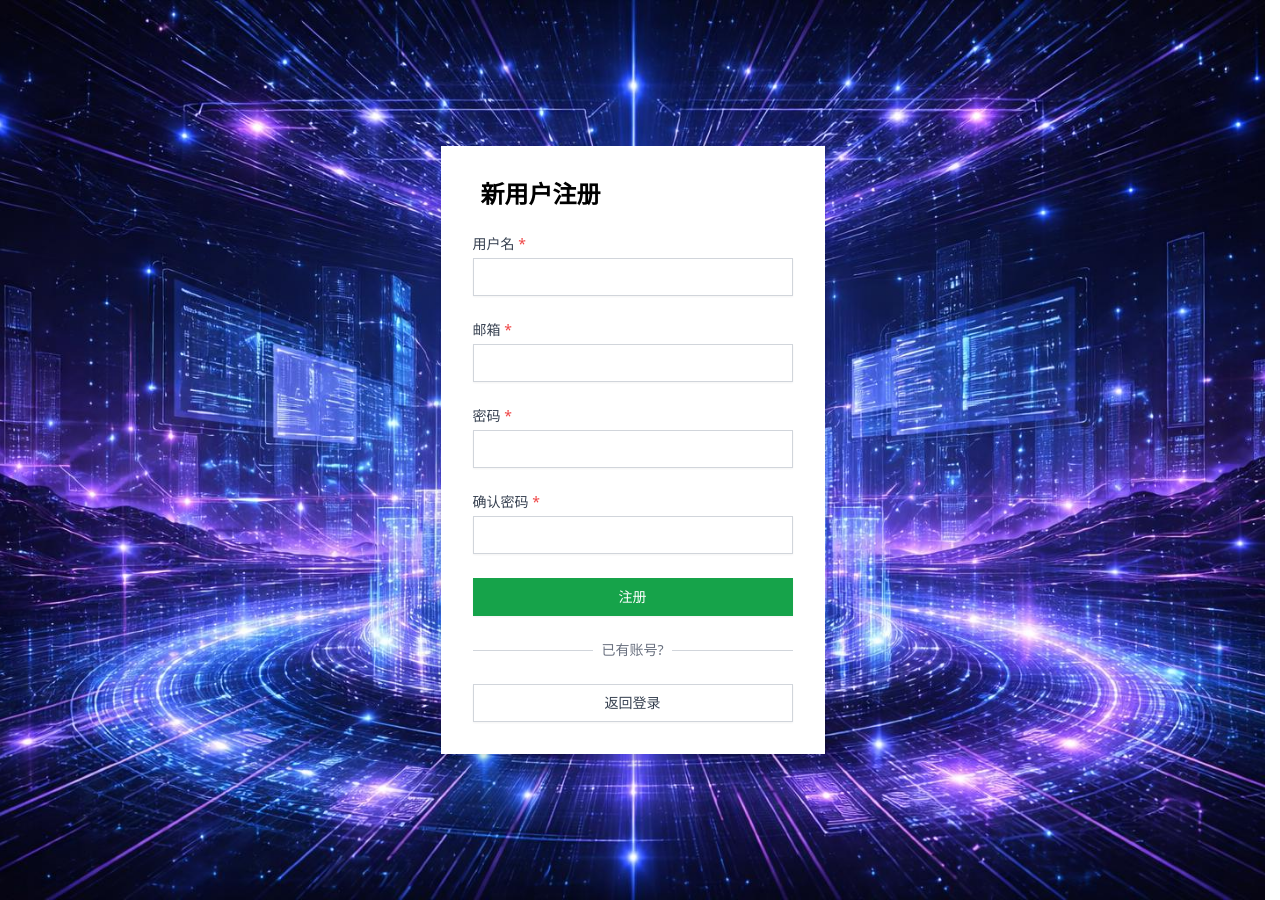
Scenario: Register (branch coverage) › clears field errors on input change
Submit the form "注册", box [472, 234, 792, 616]
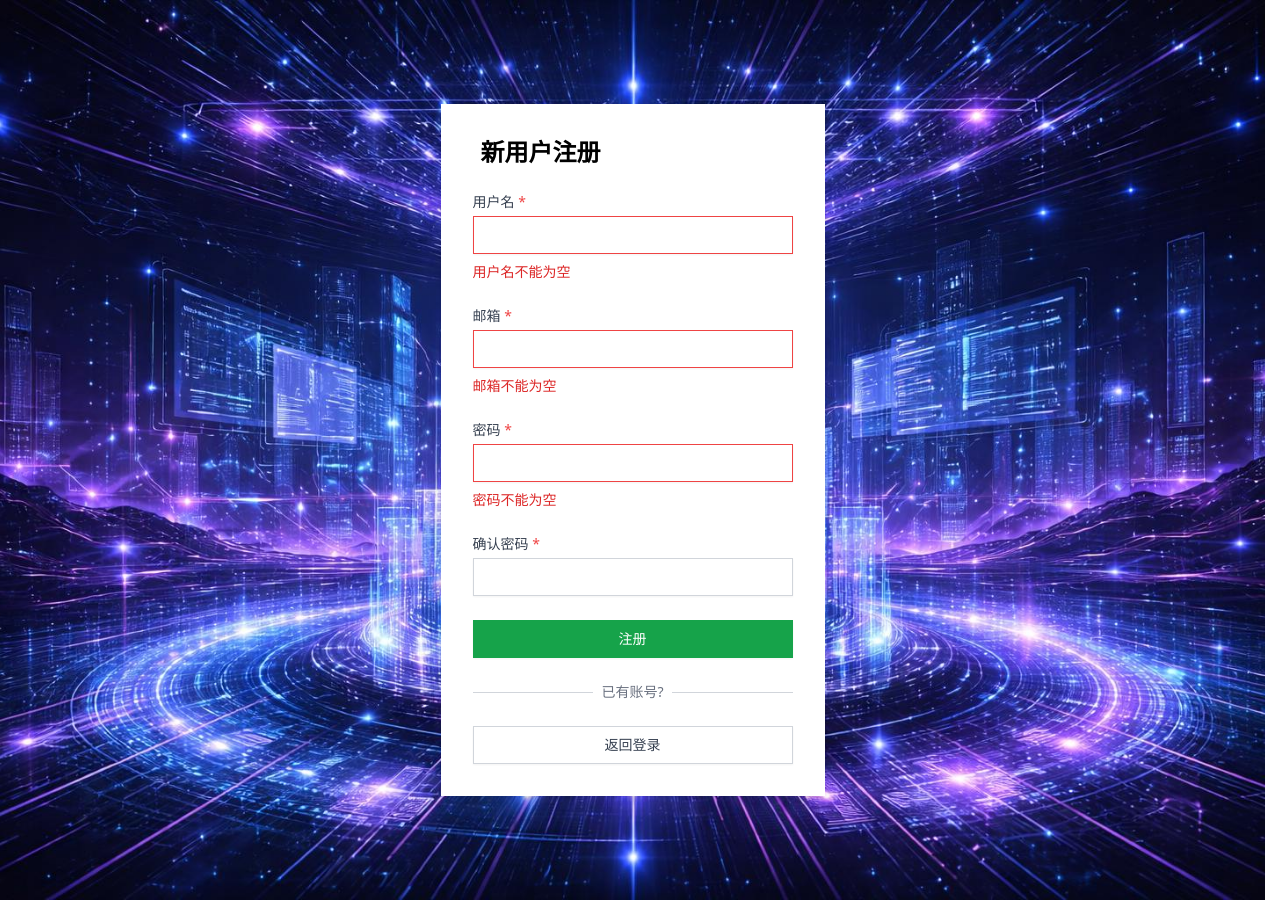
expect the text "用户名不能为空" is shown: met, box [472, 262, 570, 281]
In the field labelled "用户名 *": (632, 235) [472, 216, 792, 254], type "ab"
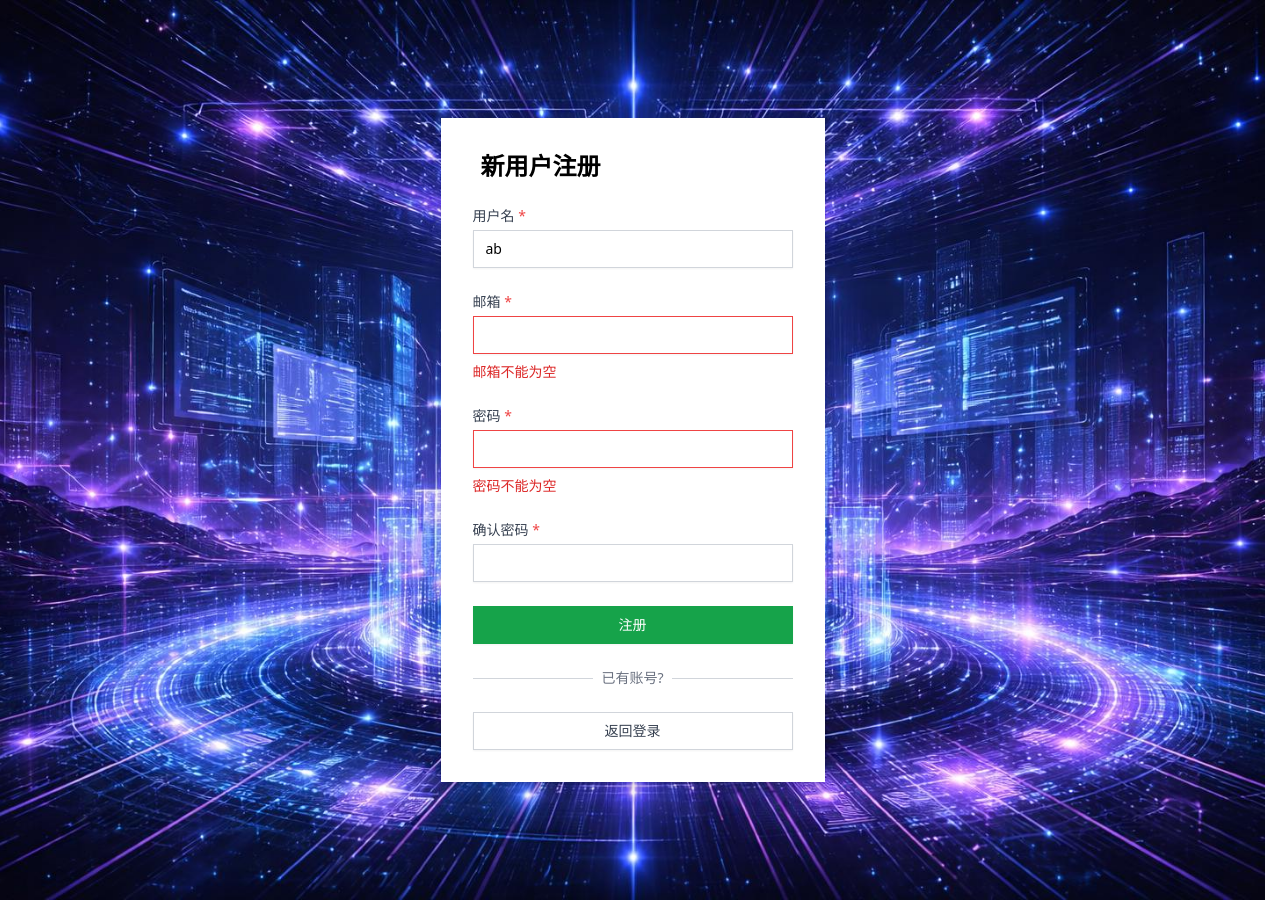
expect the text "用户名不能为空" is gone: met
